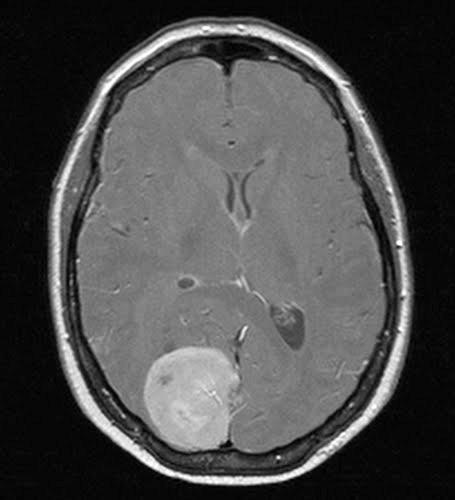Tumour-Meningioma: (130, 342, 273, 465)
